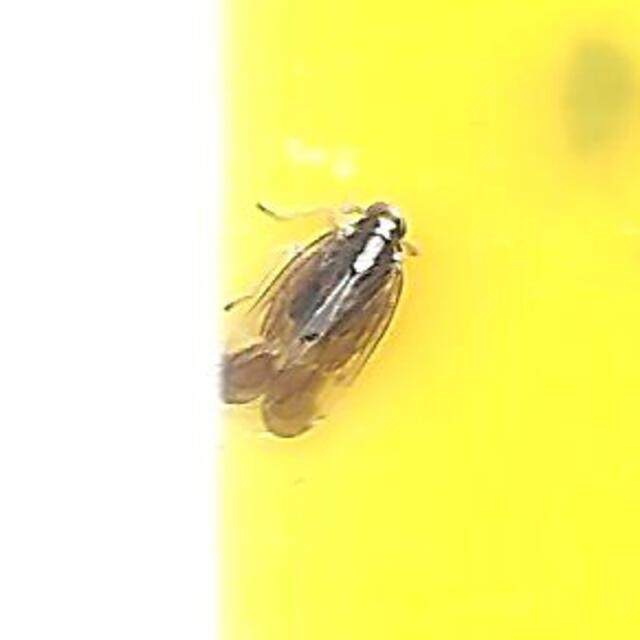Hemiptera: (220, 200, 420, 440)
